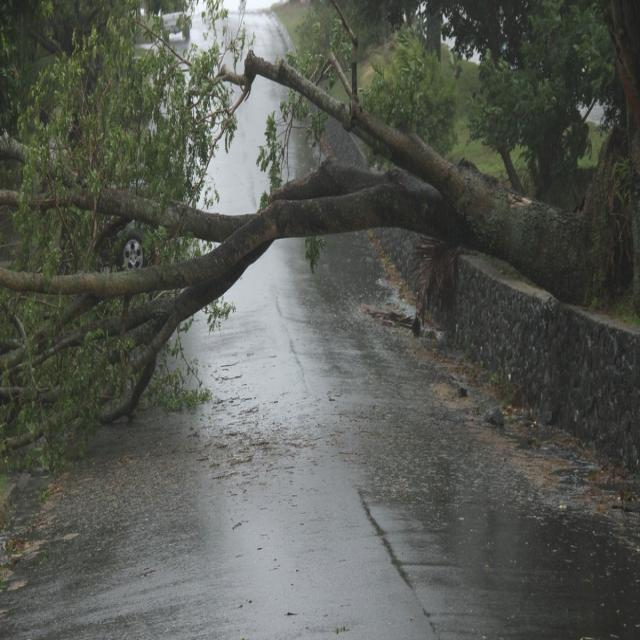fallen_tree: (175, 48, 627, 332)
